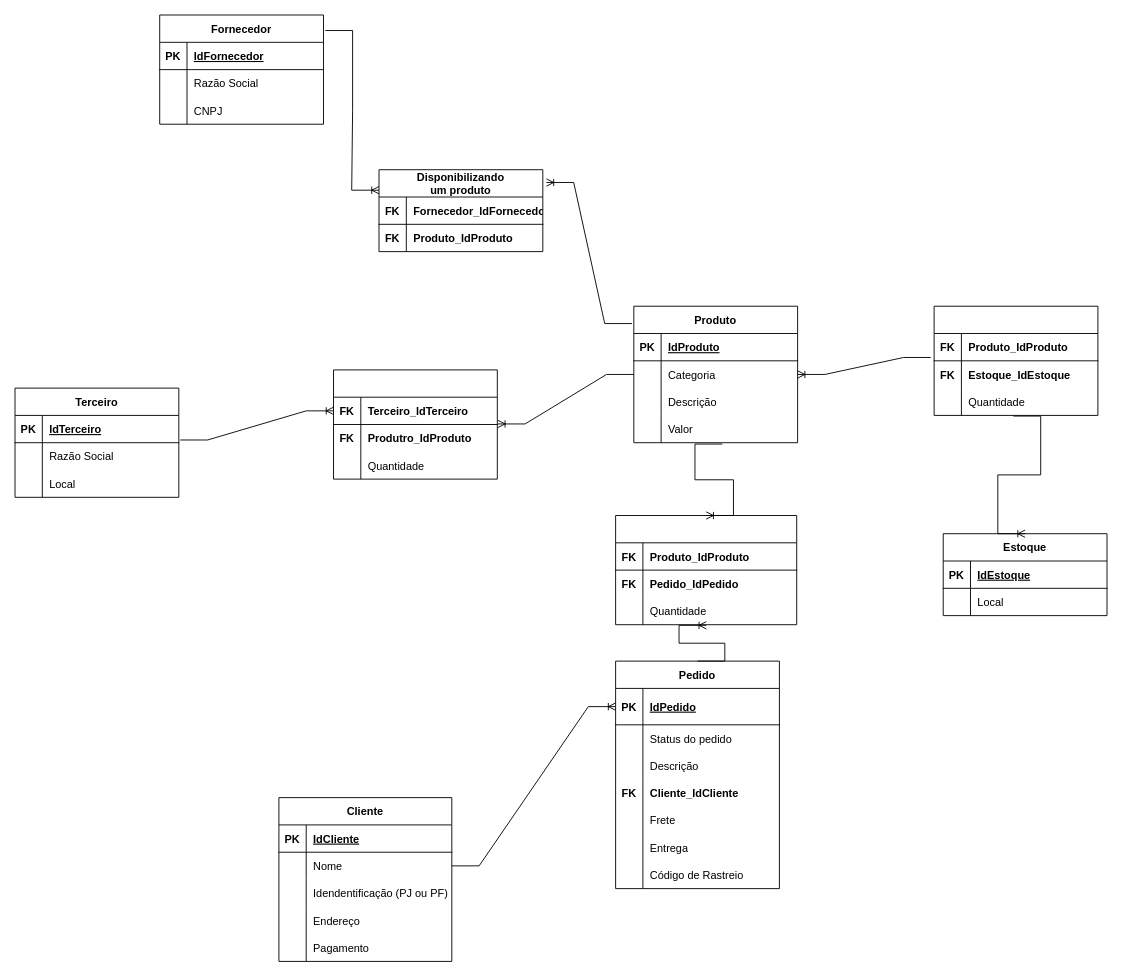
The diagram is 1122 pixels wide and 976 high, and some of its shapes have lost their labels. Here are the shapes that lost their labels. From the top down, the box of each, then its label:
(933, 305, 1098, 415): Produto has Estoque
(333, 369, 497, 479): Produtos por Vendedor (Terceiro)
(615, 515, 797, 625): Relação de Produto/Pedido
